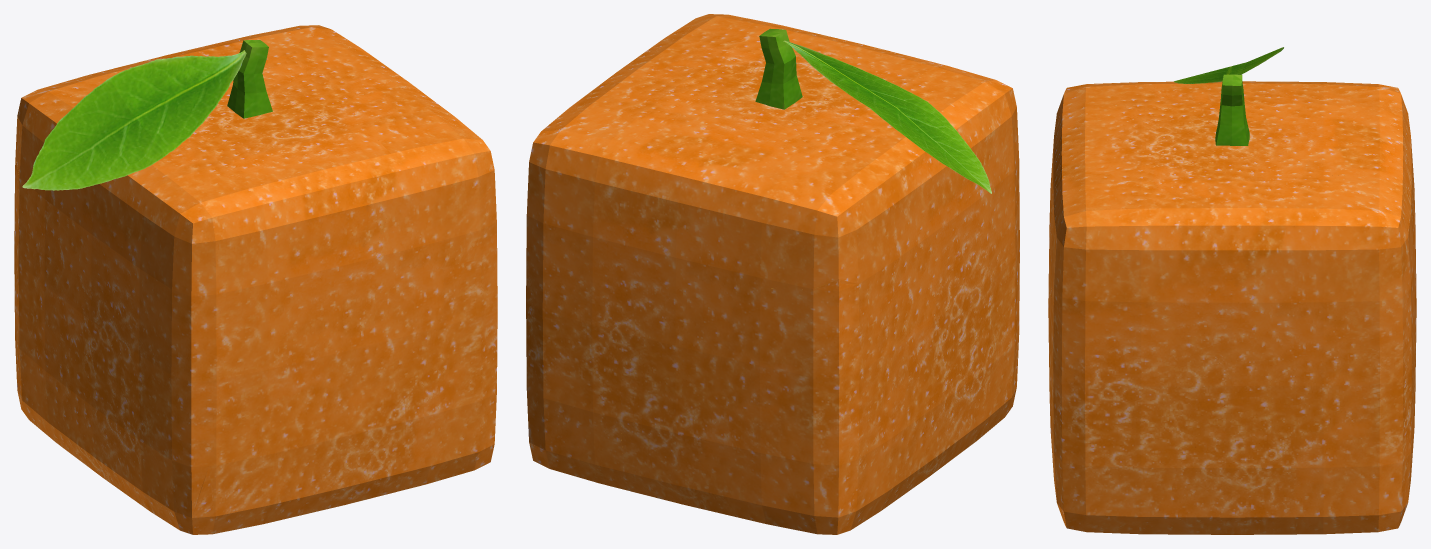
Rendered from SqOrange.fbx.
3 views of the same model, side by side, from view 1: azimuth 30°, elevation 25°; view 2: azimuth 150°, elevation 25°; view 3: azimuth 270°, elevation 25° (orthographic). The views are drawn at different scales.
Visible parts, largest first — view 1: SqOrange, SqOrange_cell, SqOrange_leaf, SqOrange_cell.002, SqOrange_cell.001, SqOrange_cell.004; view 2: SqOrange, SqOrange_cell.002, SqOrange_cell.001, SqOrange_leaf, SqOrange_cell.004, SqOrange_cell.003; view 3: SqOrange, SqOrange_cell.004, SqOrange_cell.001, SqOrange_cell, SqOrange_leaf, SqOrange_cell.003.
Part boxes in pixels (x1,y1,x2,y2): SqOrange: [14, 25, 497, 534]; SqOrange_cell: [216, 258, 497, 523]; SqOrange_leaf: [22, 40, 272, 190]; SqOrange_cell.002: [15, 157, 213, 530]; SqOrange_cell.001: [15, 41, 390, 374]; SqOrange_cell.004: [260, 32, 488, 270]; SqOrange: [526, 14, 1019, 534]; SqOrange_cell.002: [620, 258, 1015, 521]; SqOrange_cell.001: [623, 31, 1018, 299]; SqOrange_leaf: [755, 28, 991, 193]; SqOrange_cell.004: [526, 25, 789, 249]; SqOrange_cell.003: [526, 311, 623, 478]; SqOrange: [1048, 81, 1416, 534]; SqOrange_cell.004: [1049, 172, 1414, 386]; SqOrange_cell.001: [1084, 82, 1415, 258]; SqOrange_cell: [1048, 291, 1170, 531]; SqOrange_leaf: [1174, 47, 1283, 145]; SqOrange_cell.003: [1160, 383, 1409, 517].
Size of the model in its own units: 11.74 by 11.97 by 9.88.
